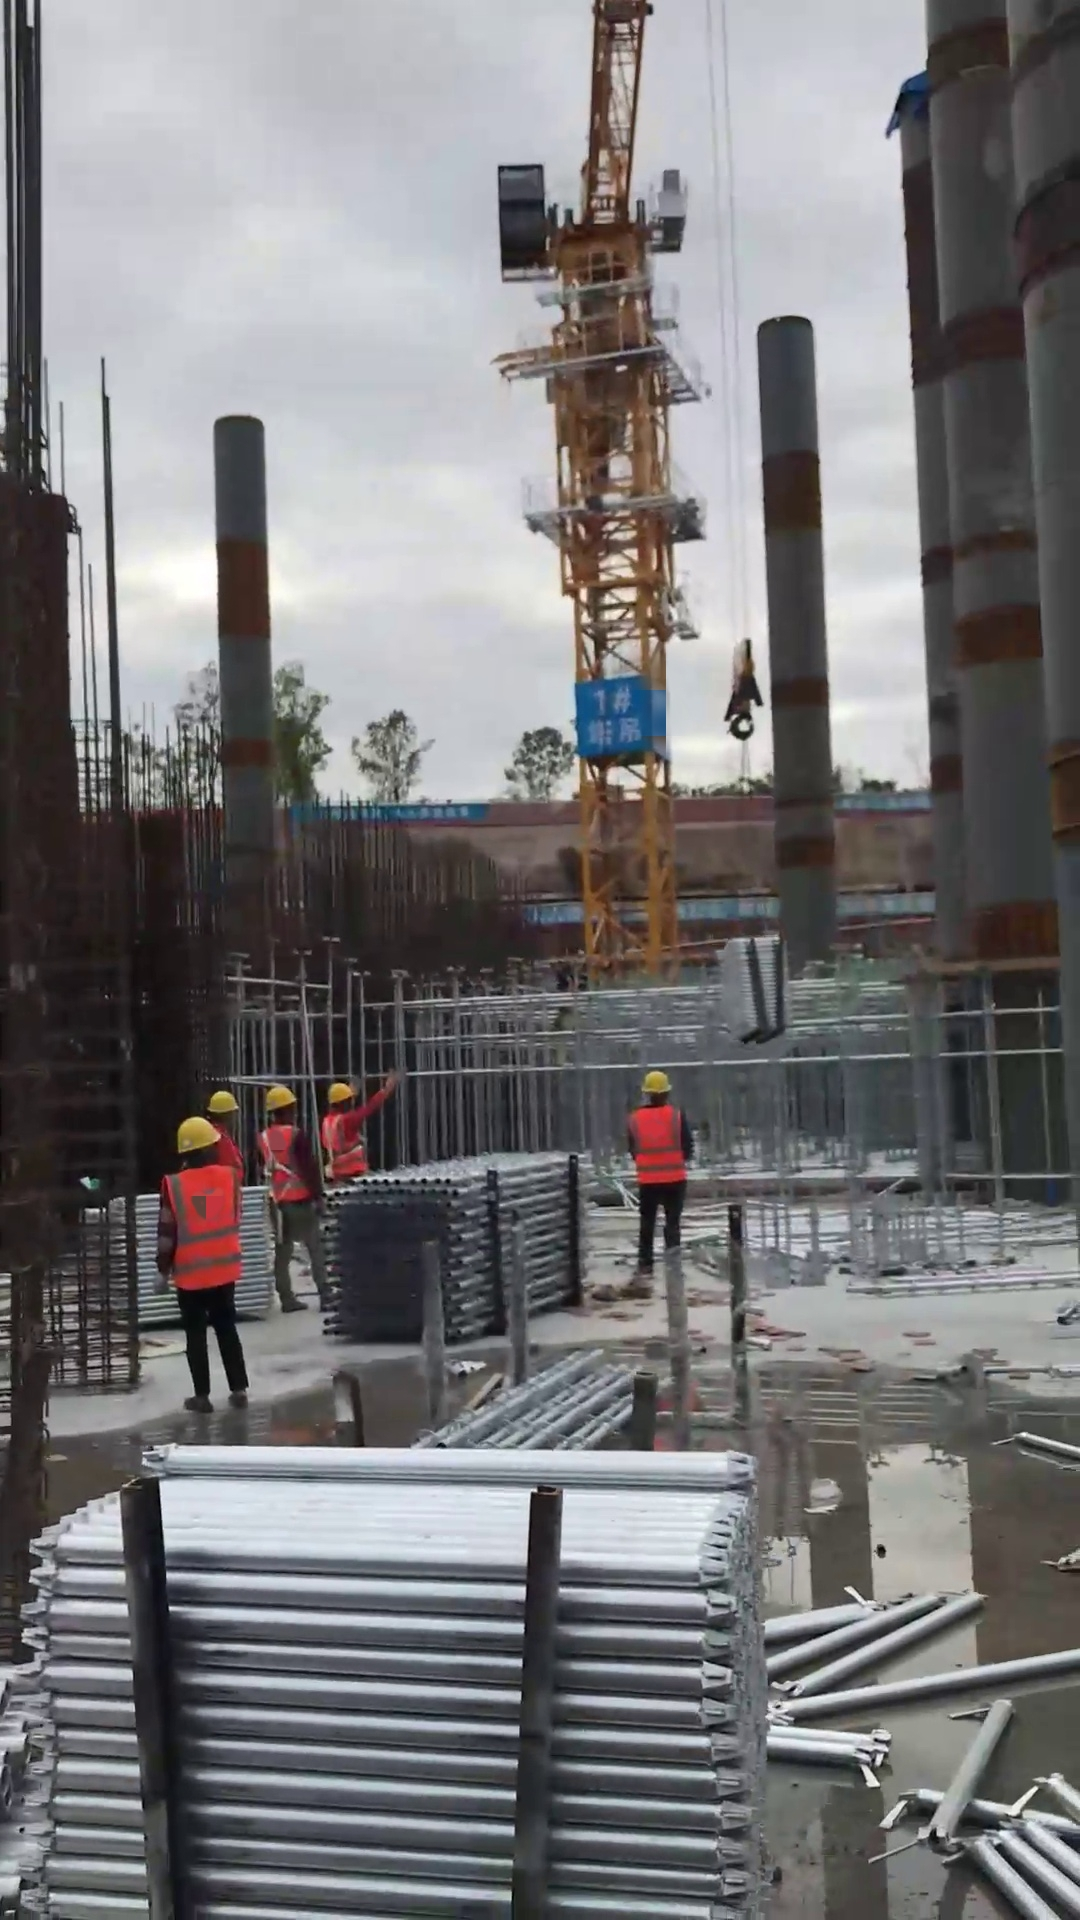helmet: (175, 1114, 223, 1158), (259, 1085, 298, 1117), (204, 1086, 239, 1116), (639, 1069, 670, 1098), (326, 1079, 356, 1104)
hook: (722, 636, 764, 741)
person: (150, 1112, 252, 1416), (250, 1084, 336, 1315), (623, 1068, 697, 1286), (319, 1067, 404, 1181), (205, 1086, 246, 1182)
scaffold: (21, 1438, 774, 1920), (316, 1148, 598, 1340), (72, 1181, 279, 1330), (411, 1348, 675, 1452), (719, 933, 789, 1041)
slogan: (526, 887, 944, 927), (574, 675, 651, 754), (287, 802, 484, 823), (829, 792, 931, 810)
vest: (158, 1161, 246, 1291), (625, 1103, 690, 1188), (251, 1124, 317, 1202), (320, 1110, 372, 1179), (208, 1122, 244, 1171)
